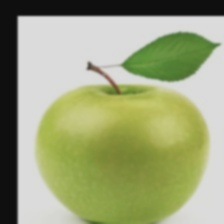apple: (25, 42, 199, 209)
